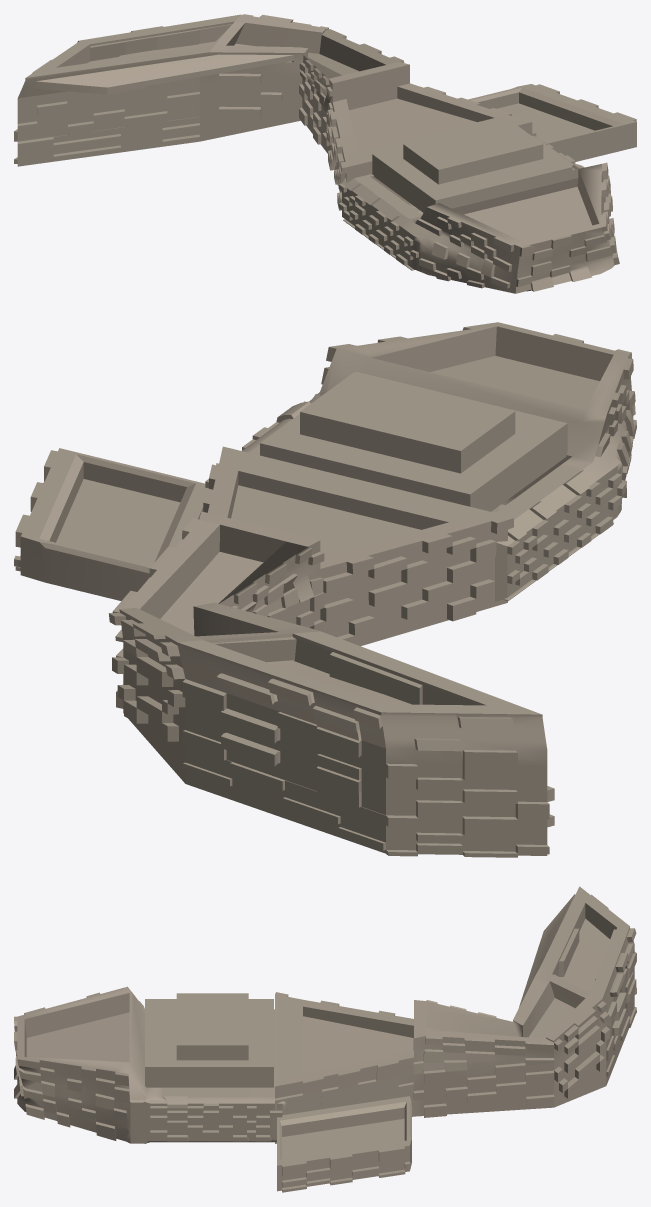
The model's file is Fort.fbx.
The picture shows the model from 3 angles, top to bottom: view 1: azimuth 30°, elevation 25°; view 2: azimuth 150°, elevation 25°; view 3: azimuth 270°, elevation 25°; orthographic projection. The views are drawn at different scales.
Parts seen in each view (by area): view 1: polySurface1; view 2: polySurface1; view 3: polySurface1.
Part boxes in pixels (box(x1,y1,x2,y2)): polySurface1: box(14, 14, 636, 293); polySurface1: box(14, 322, 636, 857); polySurface1: box(14, 886, 636, 1192).
Bounding box in the file's own units: 419 × 75.33 × 468.
